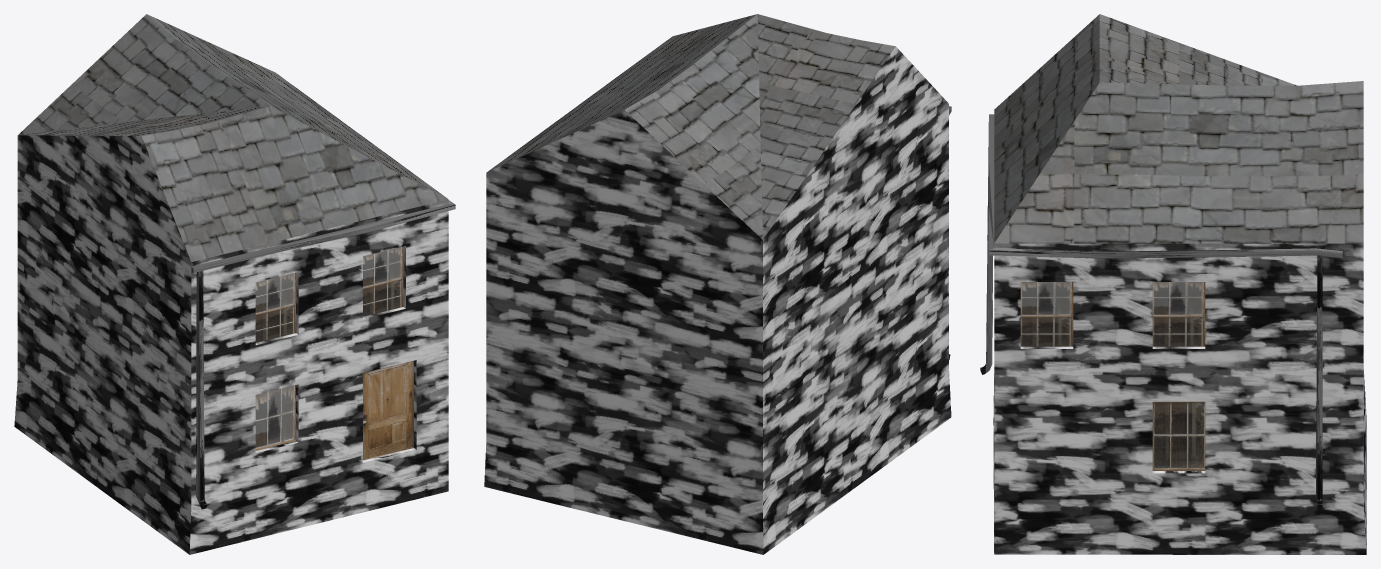
File: cottage_corner.glb
3 renders of one model, left to right at view 1: azimuth 30°, elevation 25°; view 2: azimuth 150°, elevation 25°; view 3: azimuth 270°, elevation 25°, orthographic. The views are drawn at different scales.
Parts seen in each view (by area): view 1: walls-col, roof-col, windows-col, door-col, trim-col; view 2: walls-col, roof-col; view 3: walls-col, roof-col, windows-col, trim-col.
Part boxes in pixels (x1,y1,x2,y2): walls-col: (14,135,448,554); roof-col: (18,14,448,261); windows-col: (255,246,403,450); door-col: (363,360,413,460); trim-col: (191,200,455,509); walls-col: (484,46,951,554); roof-col: (488,14,895,239); walls-col: (993,243,1366,554); roof-col: (994,14,1363,243); windows-col: (1020,282,1205,470); trim-col: (980,114,1342,508).
Size of the model in its own units: 6.31 by 8.5 by 7.32.
Materials: 5 (5 with a texture image).
